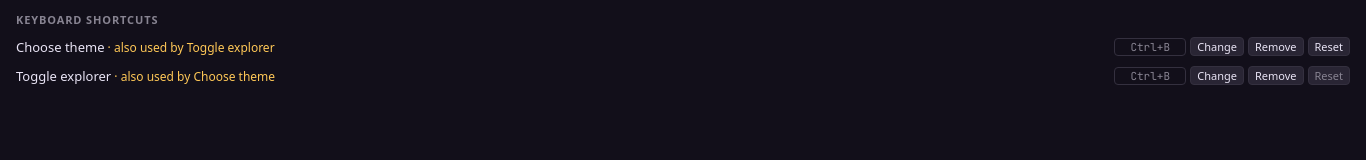
it: warns about conflicts and removes or resets a shortcut
Later steps or results of the test are not shown.
Expected: the text "· also used by Toggle explorer" is shown 2 times, [104,38,275,56]; [111,68,275,84]
Click the button with aria-label "Remove shortcut for Toggle explorer": (1276, 76) [1248,66,1304,85]
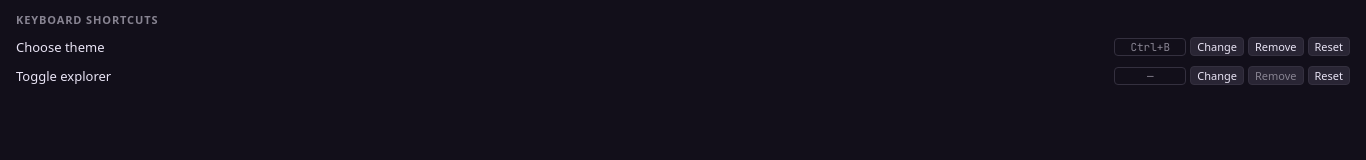
Expected: the text "also used by" is gone
